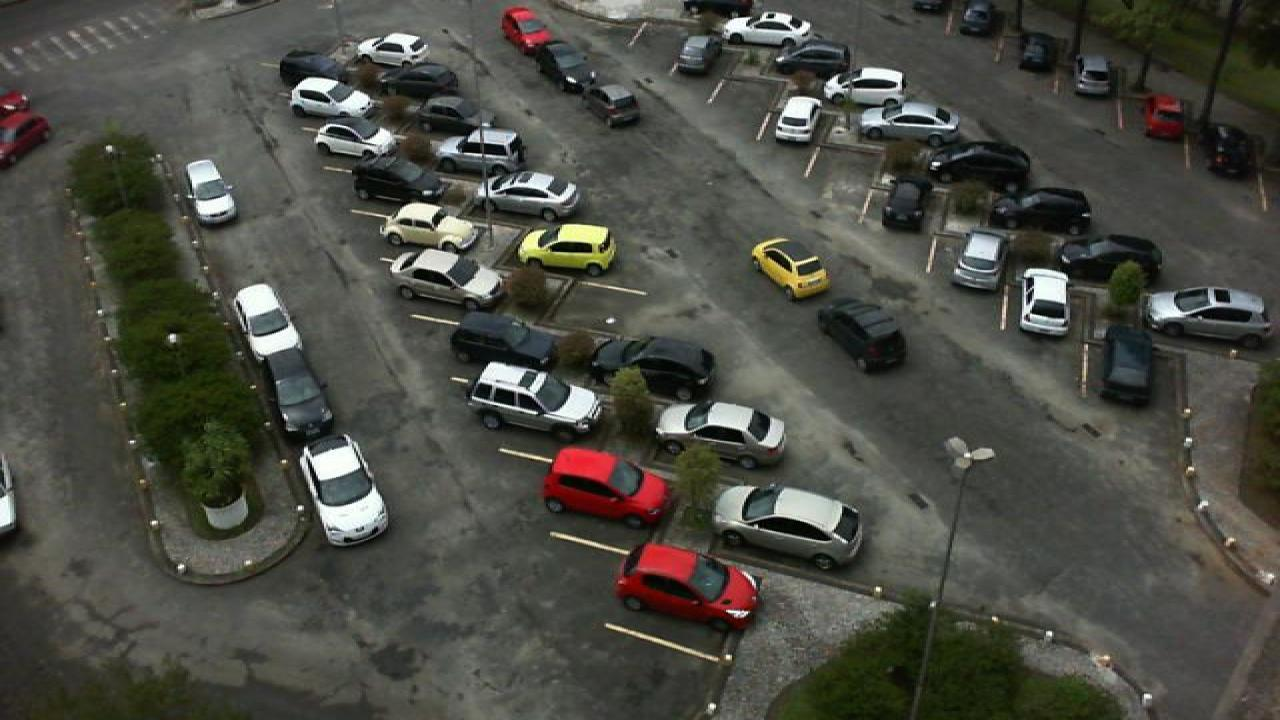Car: (612, 542, 762, 636), (710, 482, 866, 572), (538, 446, 676, 528), (466, 359, 604, 441), (296, 433, 390, 549), (652, 398, 790, 469), (590, 334, 716, 404), (1142, 285, 1274, 344), (386, 248, 506, 310), (816, 296, 910, 373), (448, 308, 562, 371), (260, 346, 334, 438), (230, 280, 304, 361), (512, 221, 620, 276), (1056, 232, 1166, 286), (984, 186, 1094, 235), (380, 202, 482, 254), (750, 238, 832, 302), (924, 140, 1032, 188), (1096, 323, 1156, 407), (482, 168, 580, 218), (348, 152, 444, 202), (434, 127, 526, 177), (860, 100, 960, 143), (1016, 268, 1074, 338), (288, 74, 374, 121), (182, 159, 240, 226), (950, 228, 1010, 292), (720, 10, 816, 48), (312, 120, 398, 162), (826, 66, 908, 107), (534, 39, 596, 92), (1198, 123, 1254, 179), (378, 61, 458, 99), (772, 38, 852, 75), (882, 178, 934, 233), (352, 33, 432, 68), (500, 6, 558, 54), (582, 82, 642, 128), (276, 50, 352, 86), (770, 95, 824, 145), (414, 94, 484, 130), (1140, 93, 1188, 144), (672, 32, 720, 76), (1016, 30, 1058, 74), (1074, 54, 1114, 97), (956, 0, 996, 36)
